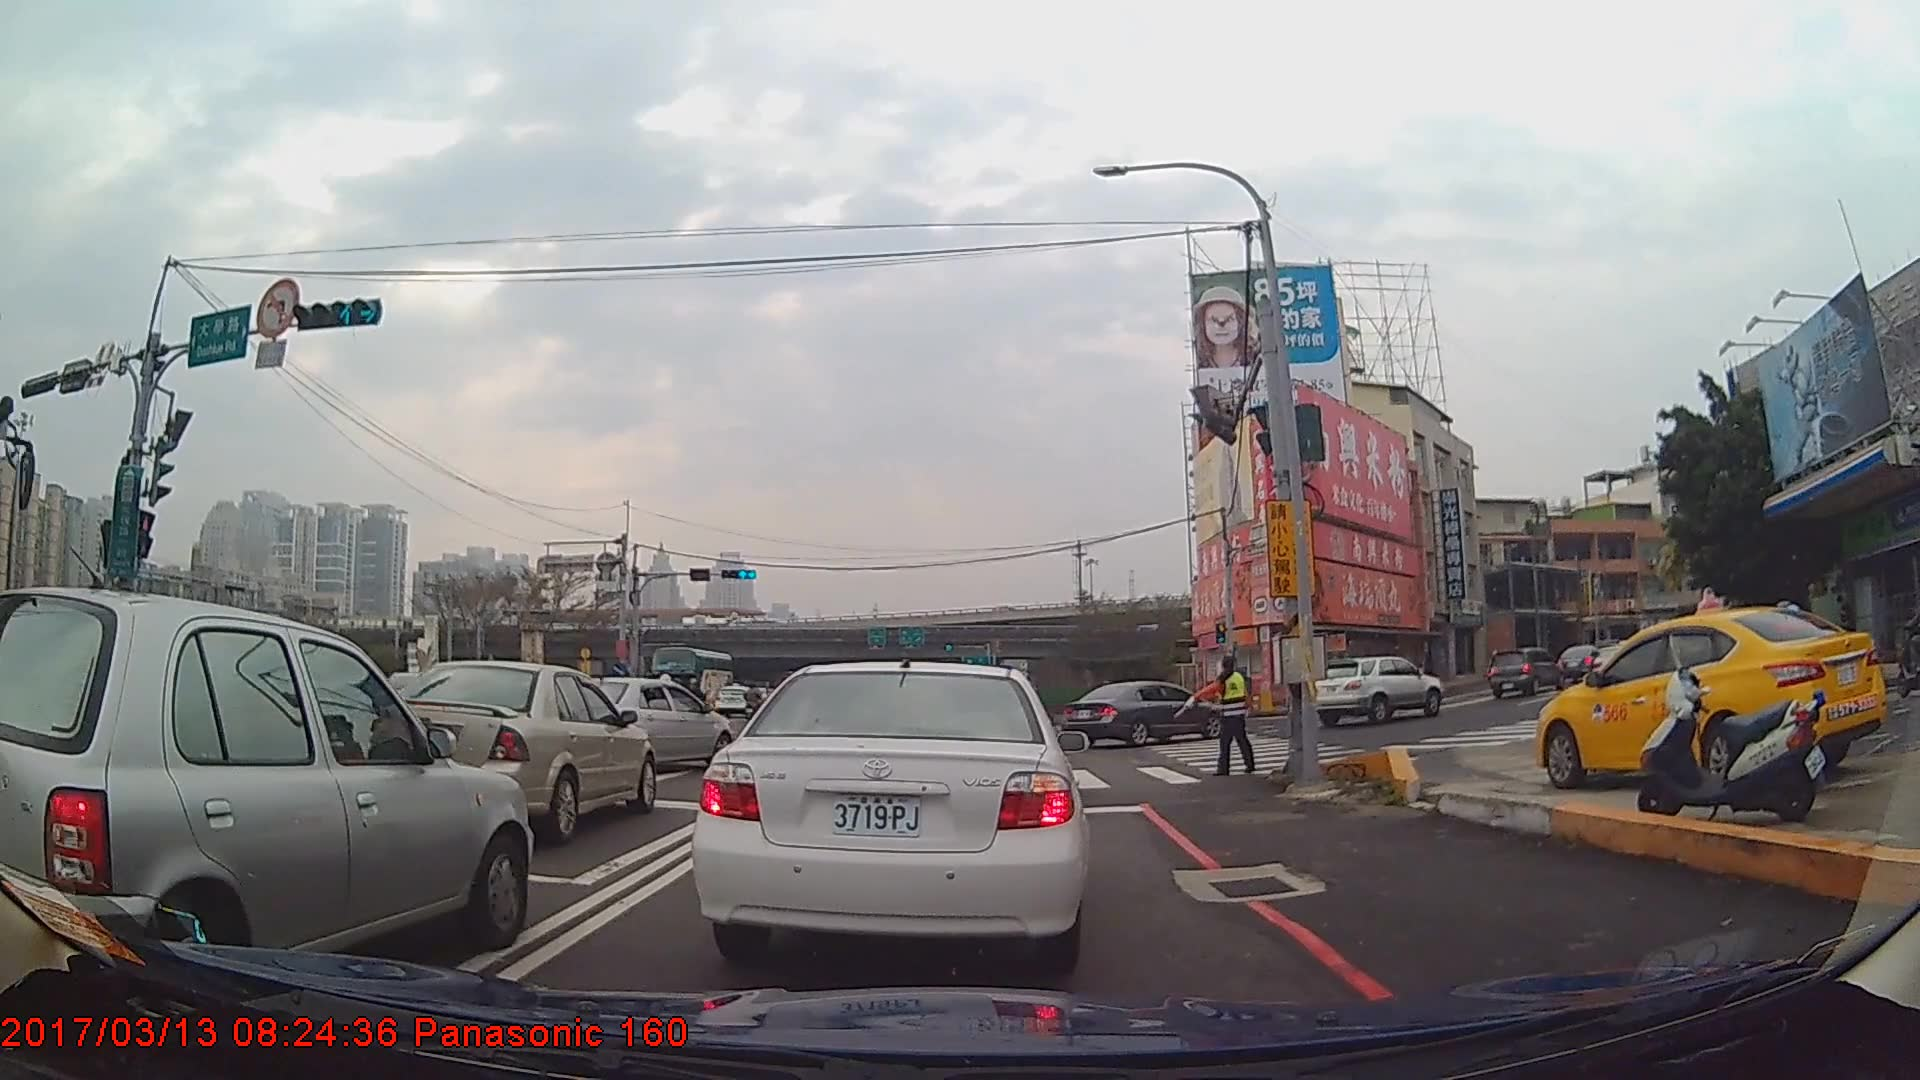pedestrian: (1175, 657, 1255, 777)
rider: (1893, 594, 1920, 700), (744, 683, 764, 723)
vehicle: (0, 586, 533, 991), (689, 653, 1087, 967), (1534, 604, 1887, 792), (370, 657, 655, 840), (559, 674, 733, 773), (1063, 680, 1220, 747), (1317, 653, 1442, 724), (650, 645, 734, 703), (1486, 645, 1566, 699), (713, 683, 759, 717)
